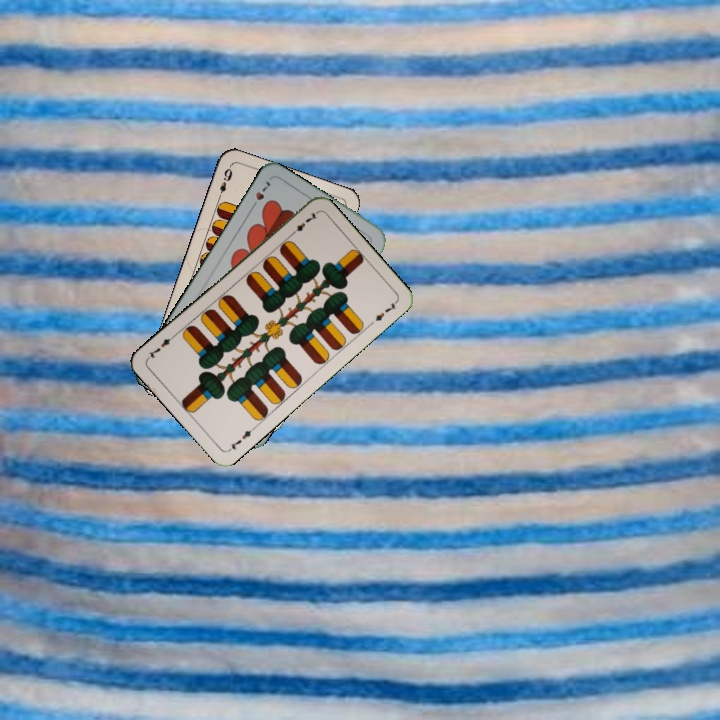E7: (286, 208, 320, 239), (224, 423, 258, 454)
E9: (214, 164, 235, 202)
H7: (247, 176, 275, 212)
